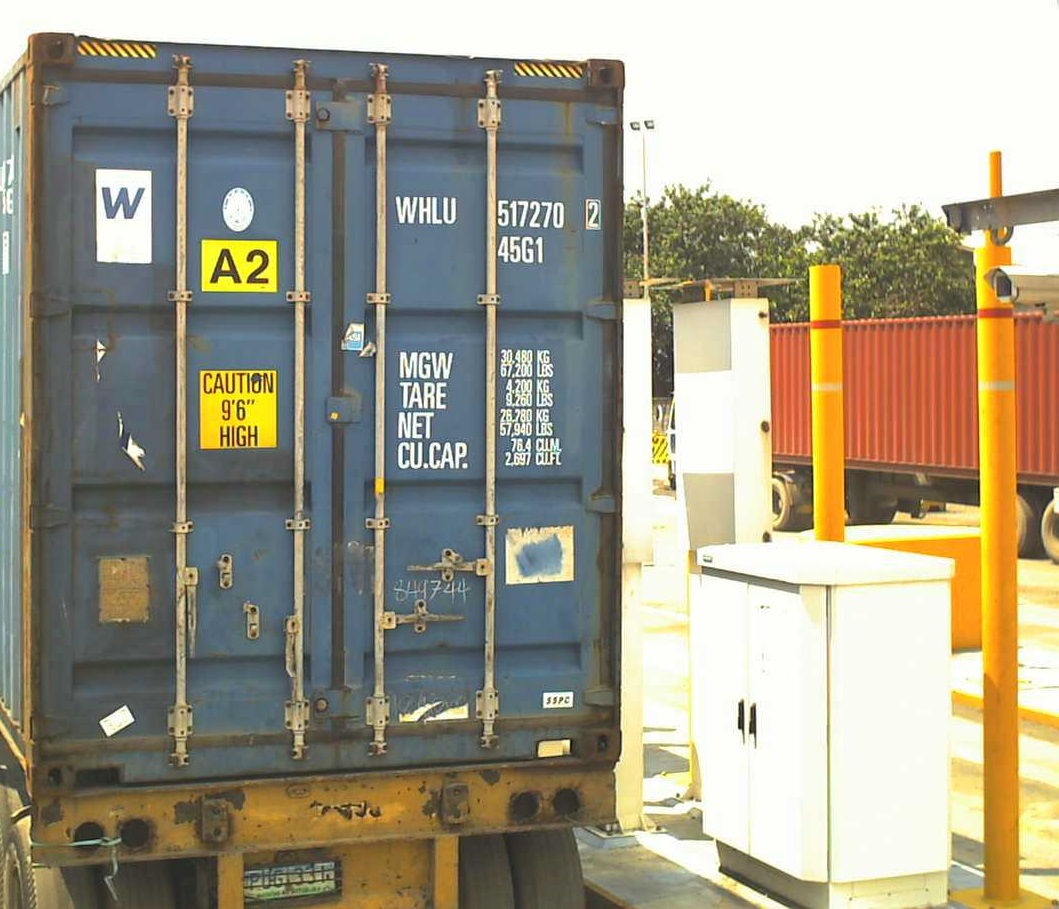container_door: (31, 24, 622, 791)
